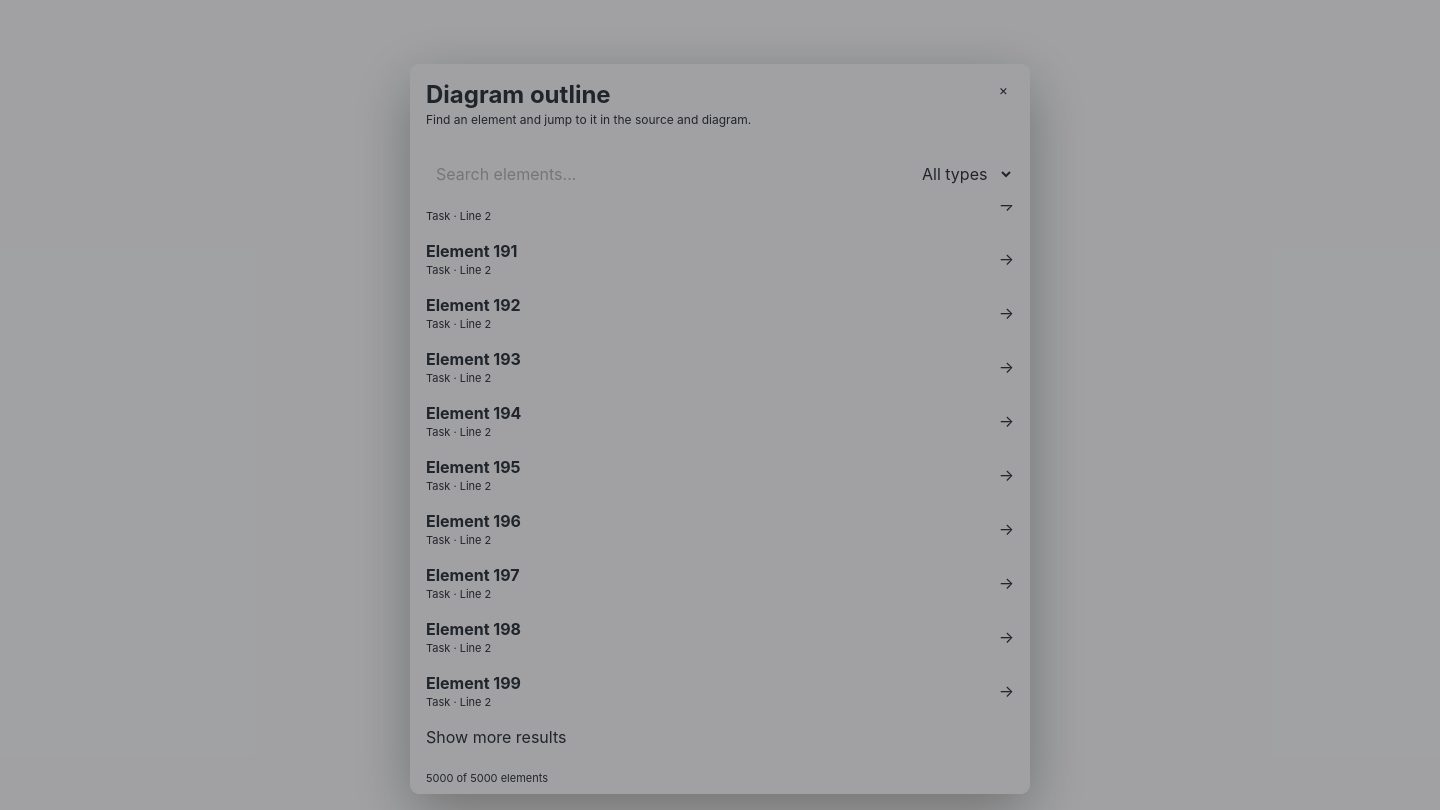
Test case: outline context and large result sets › bounds rendered rows while allowing access to all matches
The width and height of the screenshot is (1440, 810).
(page scrolled)
Step 1. Click the button "Show more results" → (496, 737), box [416, 718, 1024, 756]
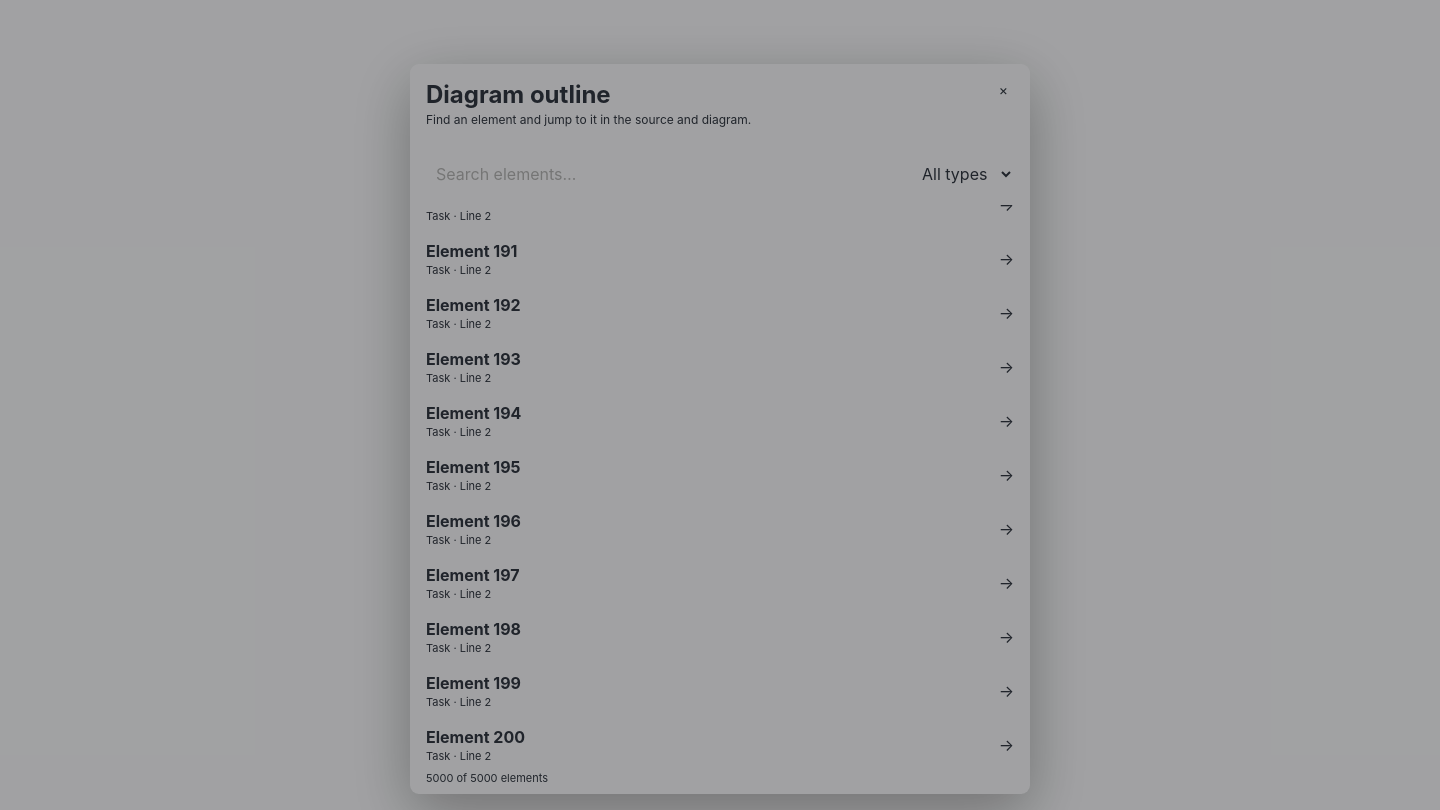
Step 2. Type "Element 4999" into the search field named "Search diagram elements" → (663, 174), box [426, 155, 900, 193]
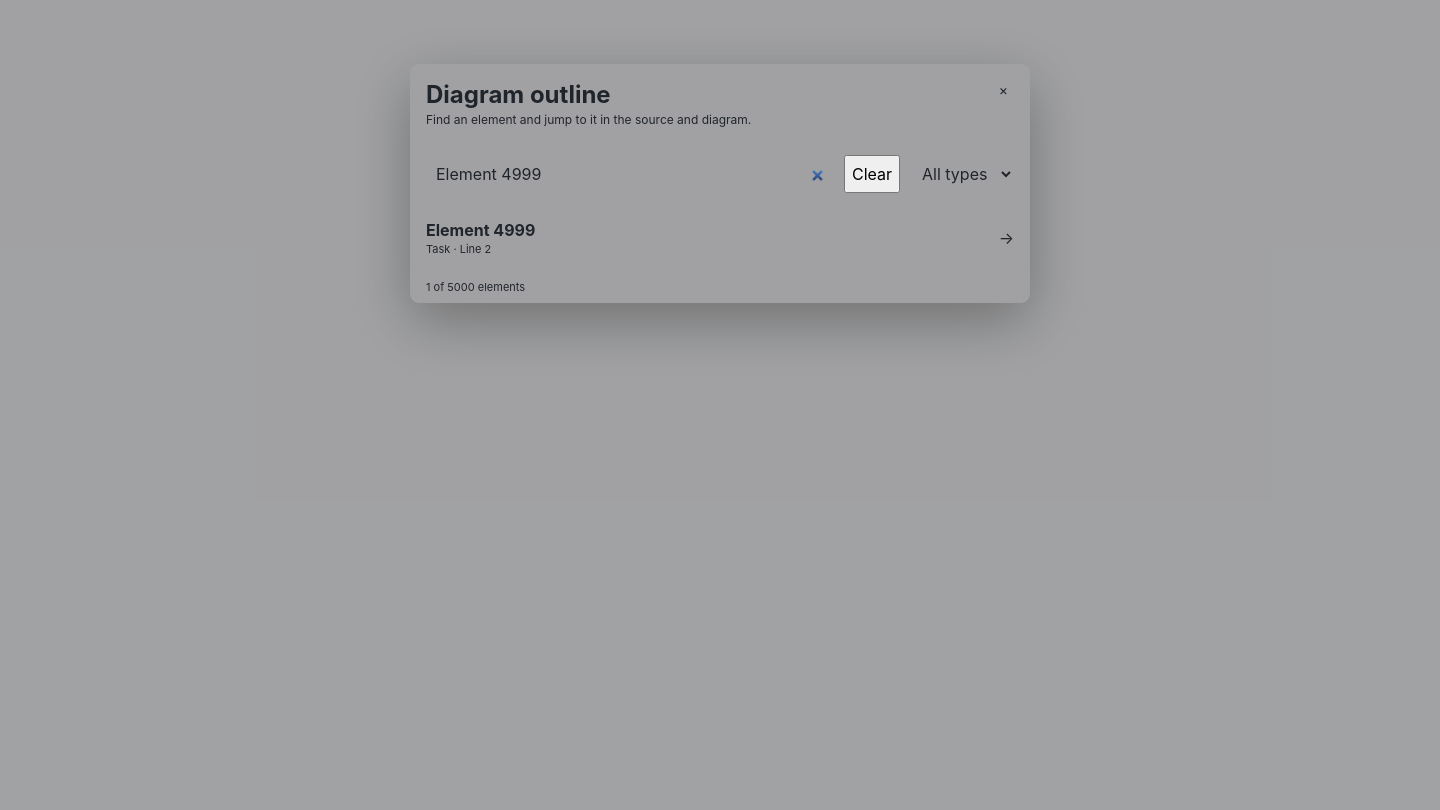
Result: the number of list items is 1 at [416, 211, 1024, 265]
